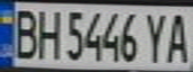4: (81, 8, 106, 61), (103, 8, 124, 62)
5: (63, 7, 84, 61)
6: (118, 9, 142, 63)
A: (163, 9, 193, 64)
B: (9, 4, 42, 60)
H: (33, 6, 63, 61)
Y: (142, 9, 172, 63)
